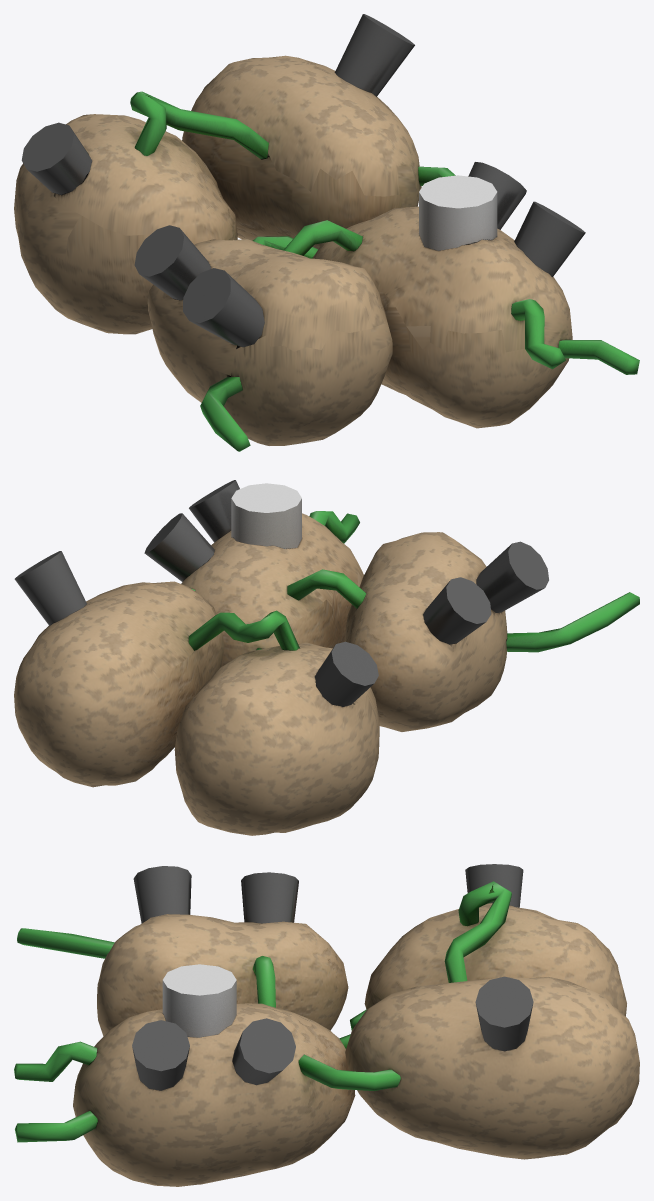
File: PotatoEngine.obj
The picture shows the model from 3 angles, top to bottom: view 1: azimuth 30°, elevation 25°; view 2: azimuth 150°, elevation 25°; view 3: azimuth 270°, elevation 25°; orthographic projection. The views are drawn at different scales.
Parts seen in each view (by area): view 1: Handle1; view 2: Handle1; view 3: Handle1.
Boxes of the visible parts, x1,y1,x2,y2 form: Handle1: (14, 14, 639, 451); Handle1: (14, 480, 639, 835); Handle1: (14, 864, 639, 1186).
Bounding box in the file's own units: 1.47 × 0.8184 × 1.95.
1 material, 1 textured.
